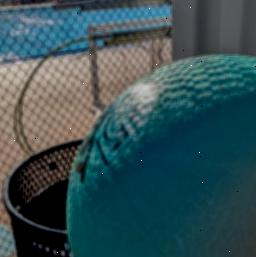algae: (65, 52, 256, 257)
